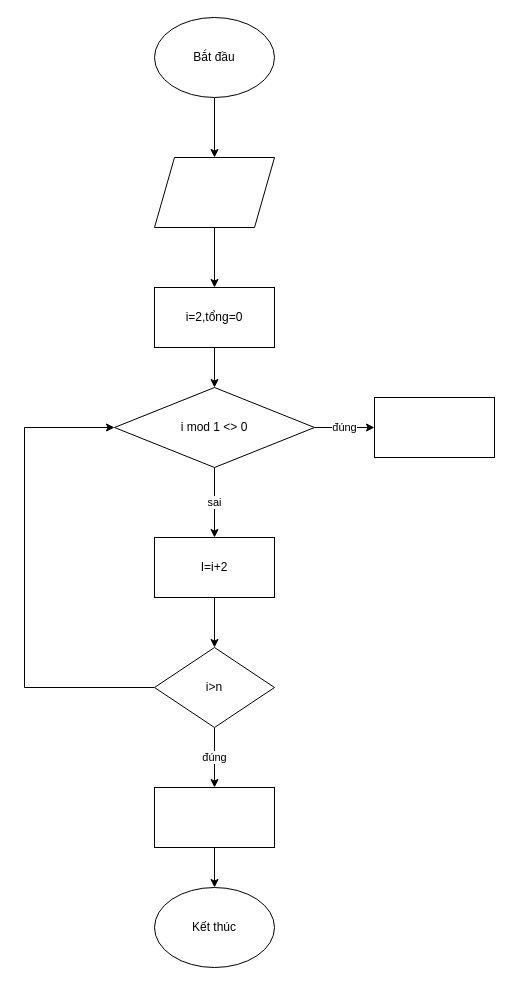
Some shapes in this 512 by 985 pixel diagram are drawn without their labels. Here are the shapes that lost their labels. From the top down, the centre of each, then its label:
point (214, 192): Nhập n
point (434, 427): Tổng=Tổng + i
point (214, 817): Tổng
